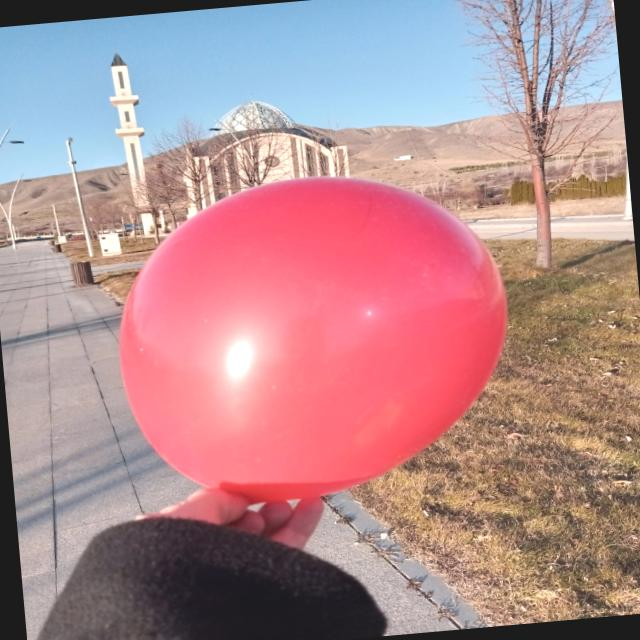balloon: (119, 177, 506, 502)
